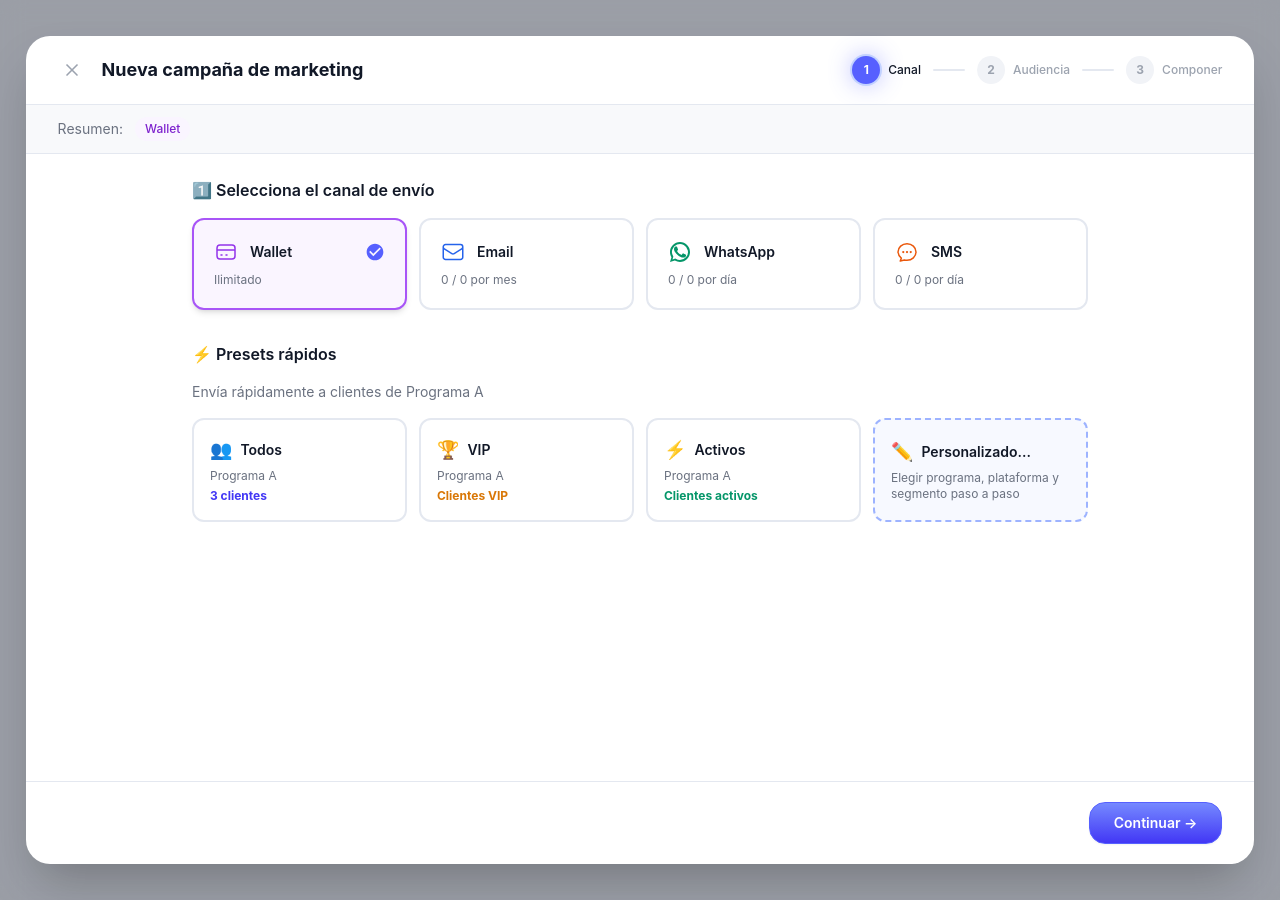
Test: CampaignWizard — discard confirmation (R5) › keeps Escape LIFO: first Escape asks, second Escape cancels the dialog only
Click the button "Email 0 / 0 por mes" at (526, 264), box [419,218,634,310]
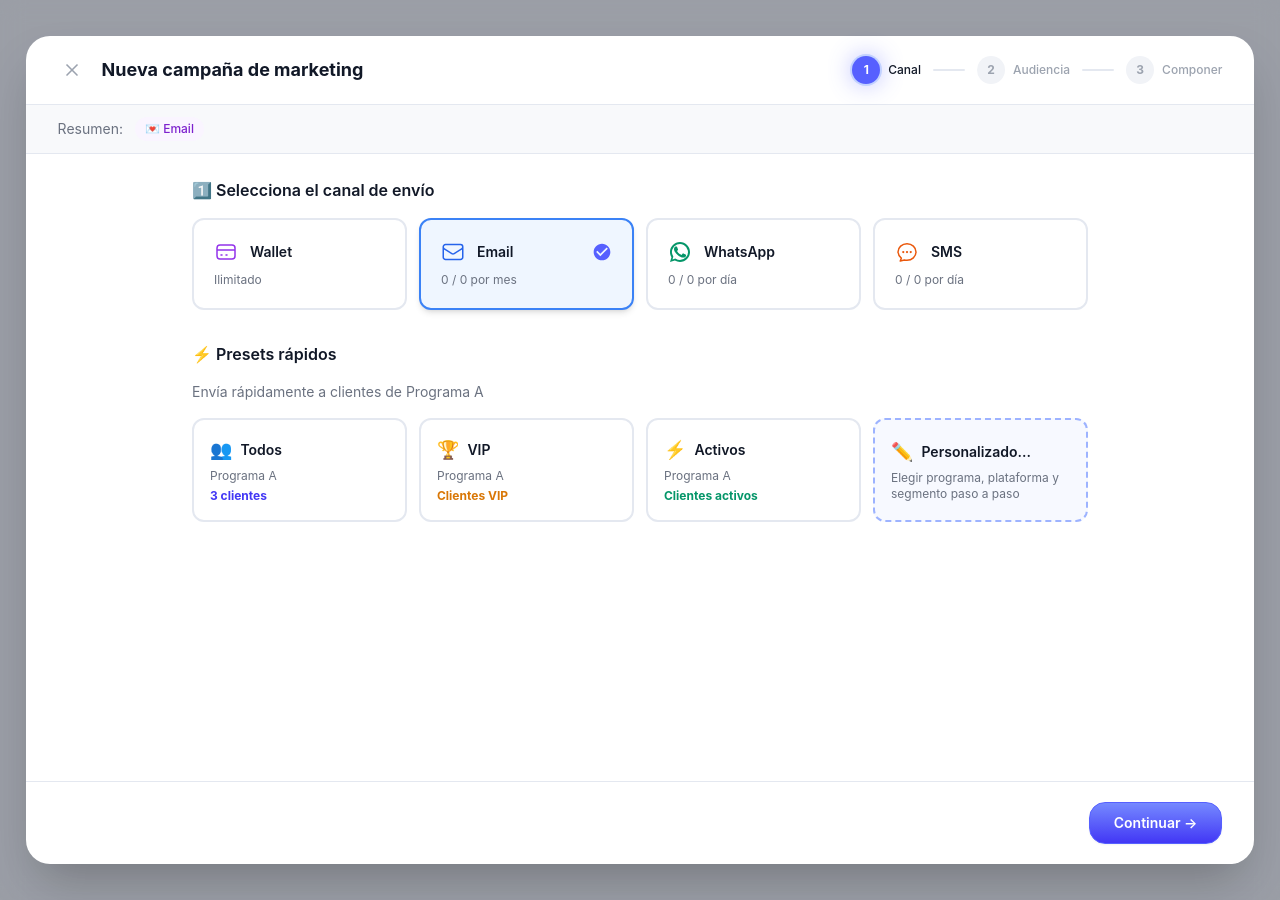
Press Escape
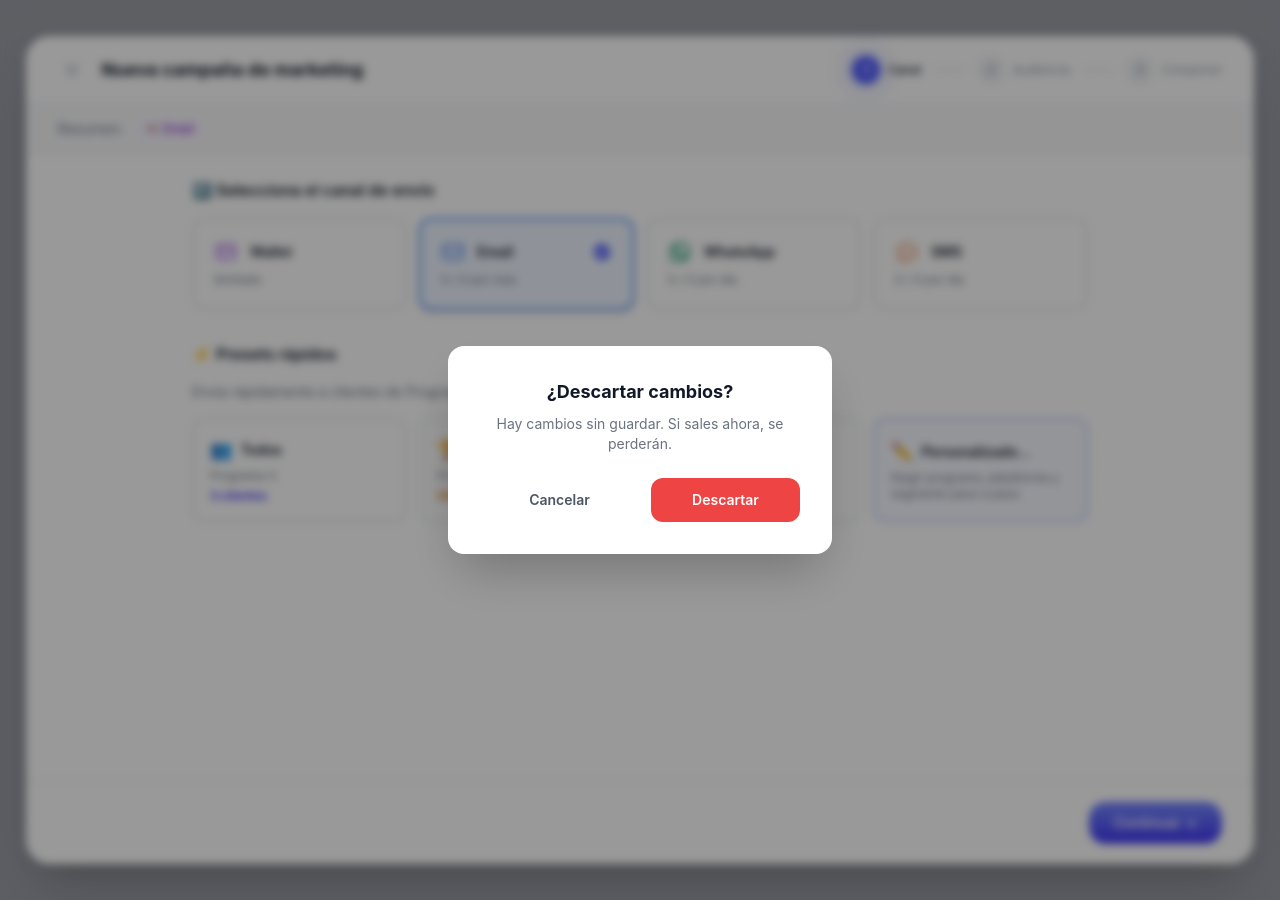
expect the text "¿Descartar cambios?" is shown: met, box [547,381,733,402]
Press Escape
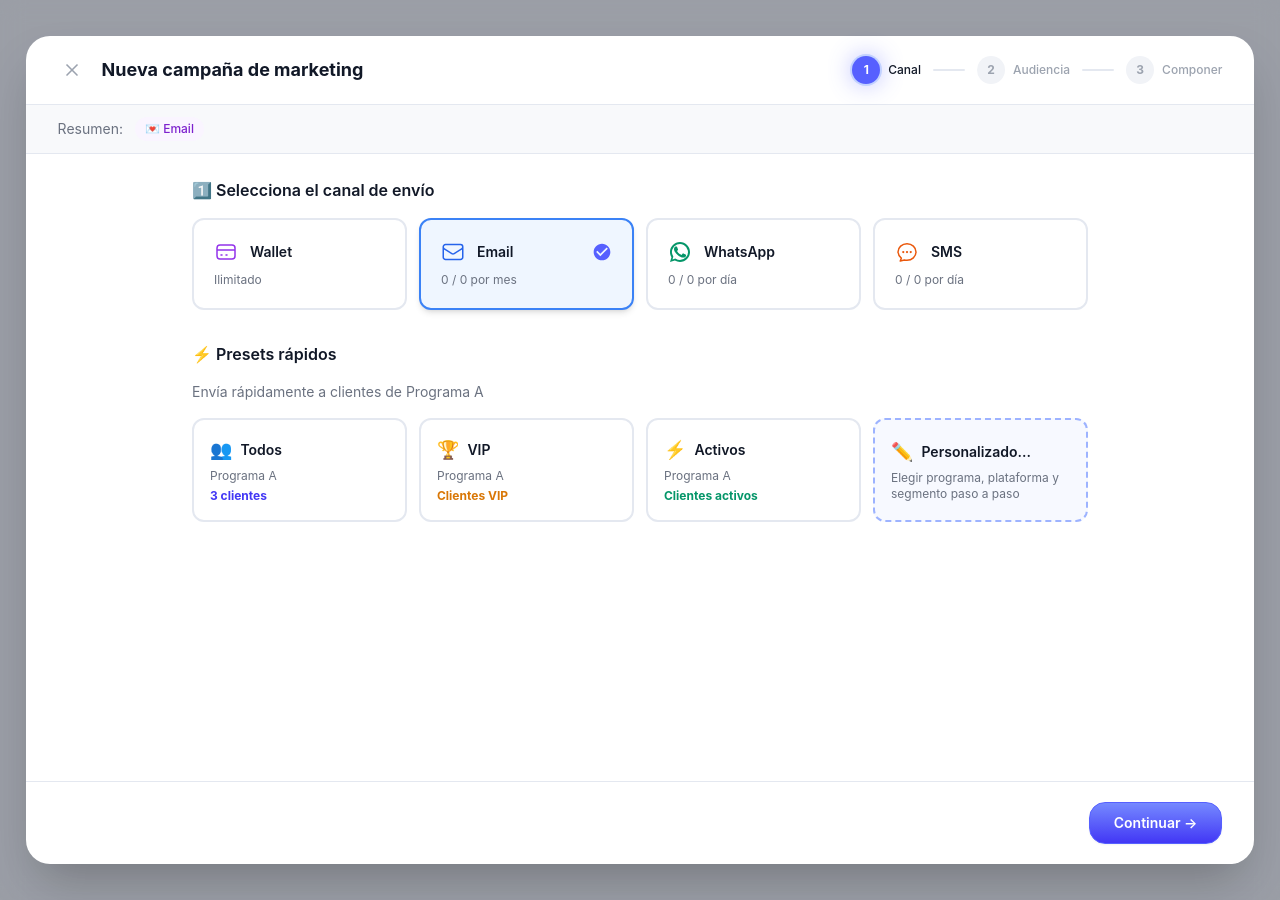
expect the heading "¿Descartar cambios?" is gone: met
